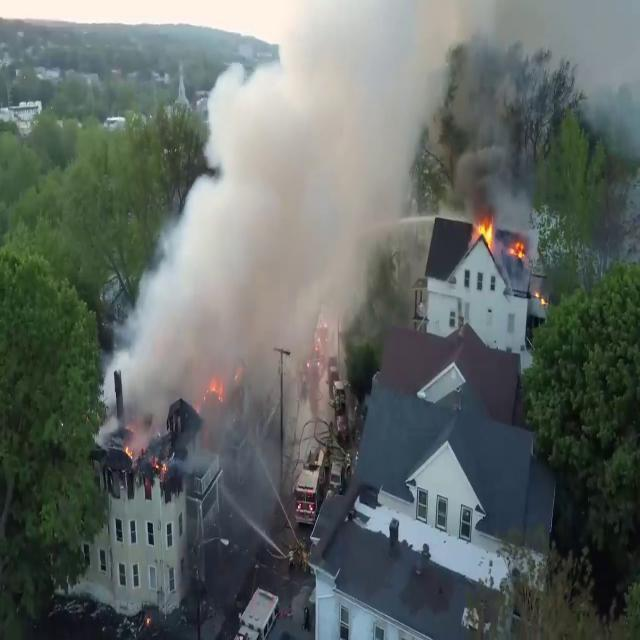Fire: (470, 210, 498, 254)
Smoke: (106, 0, 448, 439)
